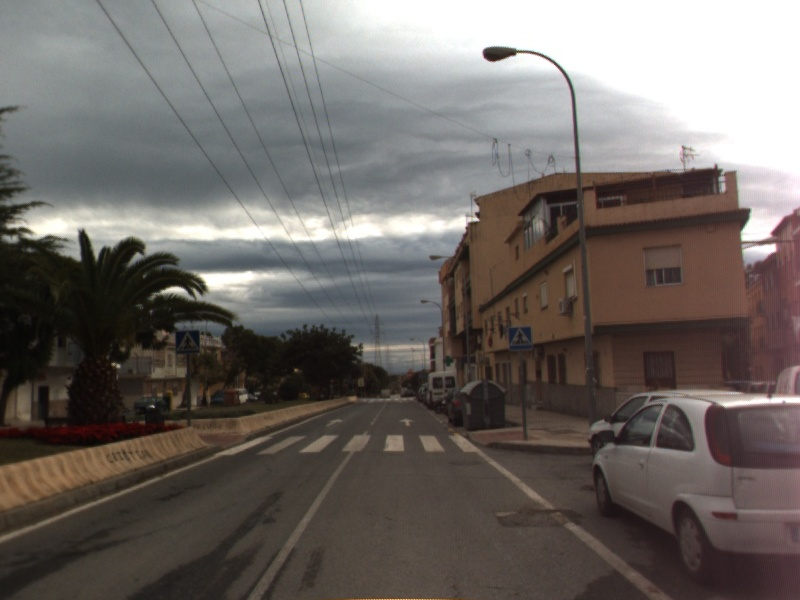STRAIGHT: (323, 416, 345, 429), (398, 416, 417, 428)
